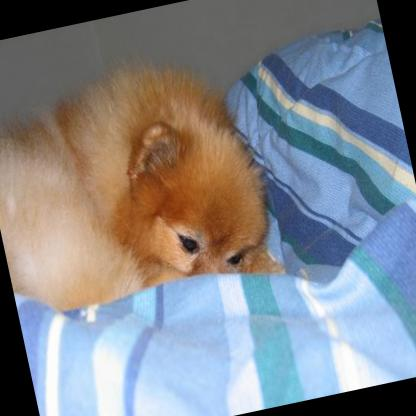Pomeranian: (0, 33, 282, 323)
